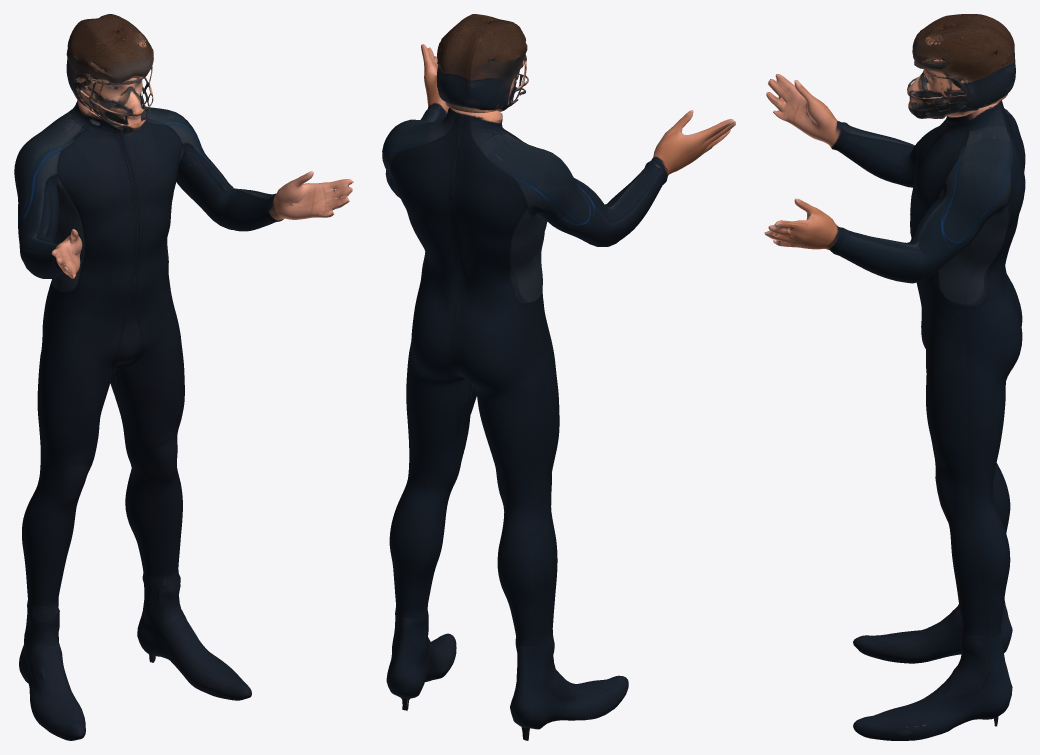
The model's file is diver-wetsuit.glb.
3 renders of one model, left to right at view 1: azimuth 30°, elevation 25°; view 2: azimuth 150°, elevation 25°; view 3: azimuth 270°, elevation 25°, orthographic. The views are drawn at different scales.
Size of the model in its own units: 0.9007 by 1.9 by 0.6651.
Materials: 1 (1 with a texture image).
